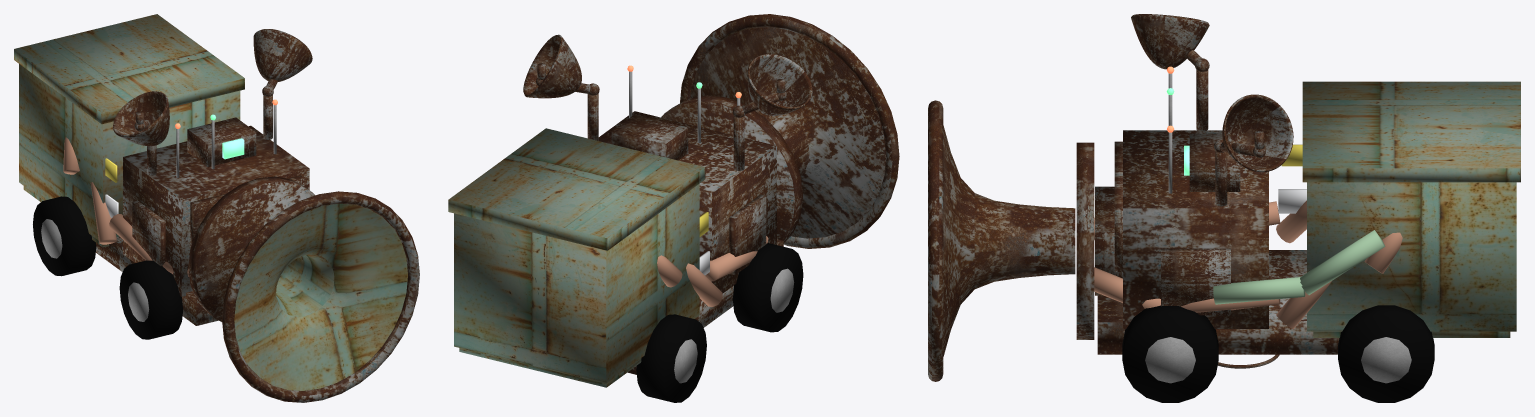
Rendered from garbage-truck.glb.
3 views of the same model, side by side, from view 1: azimuth 30°, elevation 25°; view 2: azimuth 150°, elevation 25°; view 3: azimuth 270°, elevation 25° (orthographic). The views are drawn at different scales.
Visible parts, largest first — view 1: Intake, HopperRim, Hopper, Cab, IntakeRim, IntakeCollar, WheelFL, WheelRL, DishR, DishL, RoofBox, DoorPanelL (+9 smaller); view 2: Hopper, HopperRim, Intake, Cab, IntakeRim, IntakeCollar, WheelFL, WheelRL, DishL, DishR, RoofBox, DoorPanelL (+9 smaller); view 3: Hopper, HopperRim, Cab, Intake, WheelFR, WheelRR, Chassis, IntakeRim, DishR, DoorPanelR, IntakeCollar, DishL (+16 smaller).
Part boxes in pixels (left/top/right/bottom): Intake: left=234, top=203, right=407, bottom=390; HopperRim: left=14, top=14, right=244, bottom=124; Hopper: left=19, top=64, right=240, bottom=240; Cab: left=123, top=125, right=309, bottom=296; IntakeRim: left=222, top=191, right=419, bottom=402; IntakeCollar: left=188, top=176, right=315, bottom=321; WheelFL: left=119, top=260, right=182, bottom=339; WheelRL: left=33, top=196, right=96, bottom=276; DishR: left=253, top=29, right=312, bottom=81; DishL: left=113, top=91, right=169, bottom=146; RoofBox: left=187, top=117, right=256, bottom=167; DoorPanelL: left=132, top=200, right=165, bottom=266; Hopper: left=454, top=184, right=699, bottom=383; HopperRim: left=448, top=128, right=705, bottom=250; Intake: left=690, top=27, right=885, bottom=238; Cab: left=598, top=111, right=776, bottom=293; IntakeRim: left=680, top=14, right=899, bottom=248; IntakeCollar: left=661, top=95, right=803, bottom=243; WheelFL: left=733, top=243, right=803, bottom=332; WheelRL: left=636, top=314, right=706, bottom=402; DishL: left=747, top=54, right=812, bottom=115; DishR: left=523, top=34, right=581, bottom=98; RoofBox: left=611, top=114, right=688, bottom=160; DoorPanelL: left=729, top=194, right=766, bottom=274; Hopper: left=1307, top=182, right=1516, bottom=331; HopperRim: left=1302, top=81, right=1520, bottom=182; Cab: left=1123, top=130, right=1268, bottom=328; Intake: left=943, top=125, right=1075, bottom=356; WheelFR: left=1122, top=305, right=1218, bottom=402; WheelRR: left=1338, top=305, right=1434, bottom=402; Chassis: left=1097, top=250, right=1339, bottom=354; IntakeRim: left=928, top=100, right=943, bottom=381; DishR: left=1222, top=94, right=1293, bottom=172; DoorPanelR: left=1161, top=248, right=1230, bottom=315; IntakeCollar: left=1076, top=142, right=1094, bottom=339; DishL: left=1131, top=14, right=1209, bottom=69.
Bounding box in the file's own units: 2.5 × 2.79 × 4.67.
16 materials, 4 textured.
